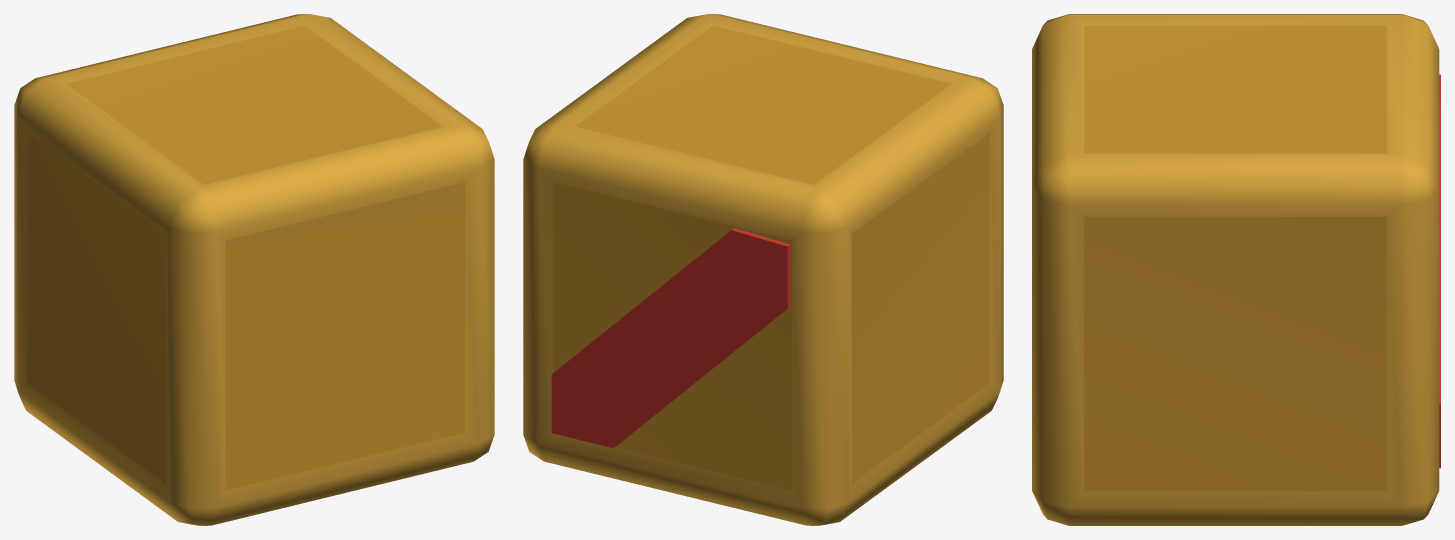
3 renders of one model, left to right at view 1: azimuth 30°, elevation 25°; view 2: azimuth 150°, elevation 25°; view 3: azimuth 270°, elevation 25°, orthographic. The views are drawn at different scales.
Visible parts, largest first — view 1: FXCube_Geometry; view 2: FXCube_Geometry; view 3: FXCube_Geometry.
Part boxes in pixels (bbox=[...]): FXCube_Geometry: bbox=[14, 14, 494, 525]; FXCube_Geometry: bbox=[523, 14, 1003, 525]; FXCube_Geometry: bbox=[1032, 14, 1440, 525].
Size of the model in its own units: 0.12 by 0.12 by 0.1205.
